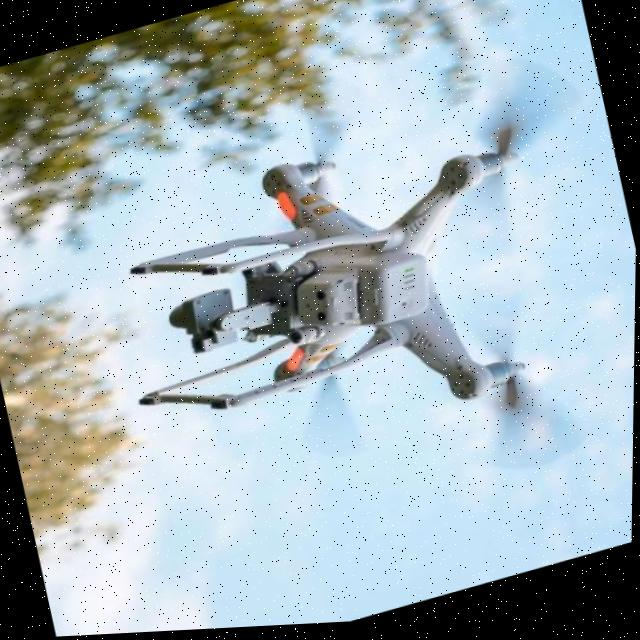drones: (22, 31, 639, 614)
